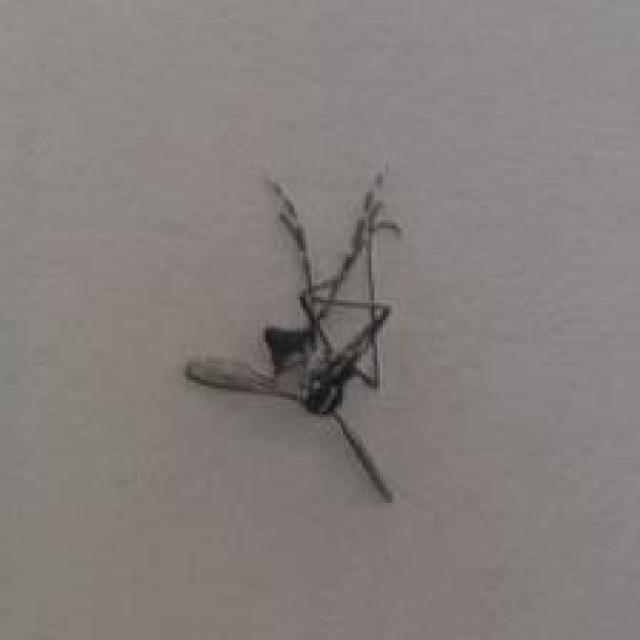Aedes albopictus: (184, 163, 404, 503)
